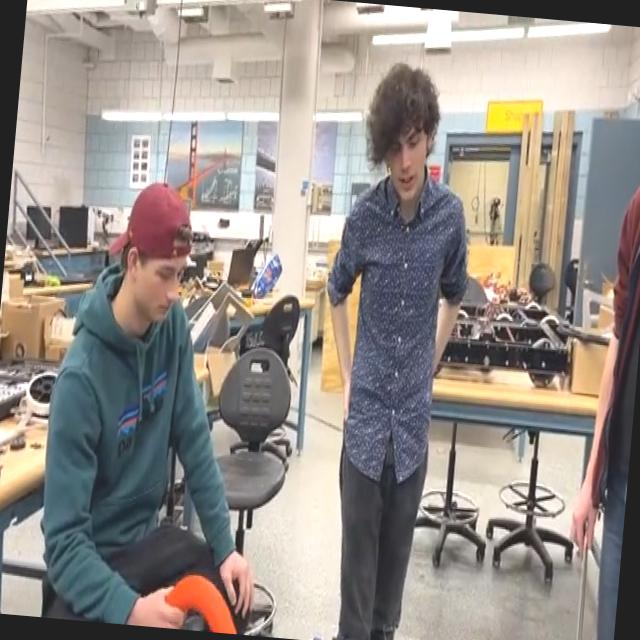note: (159, 566, 246, 634)
